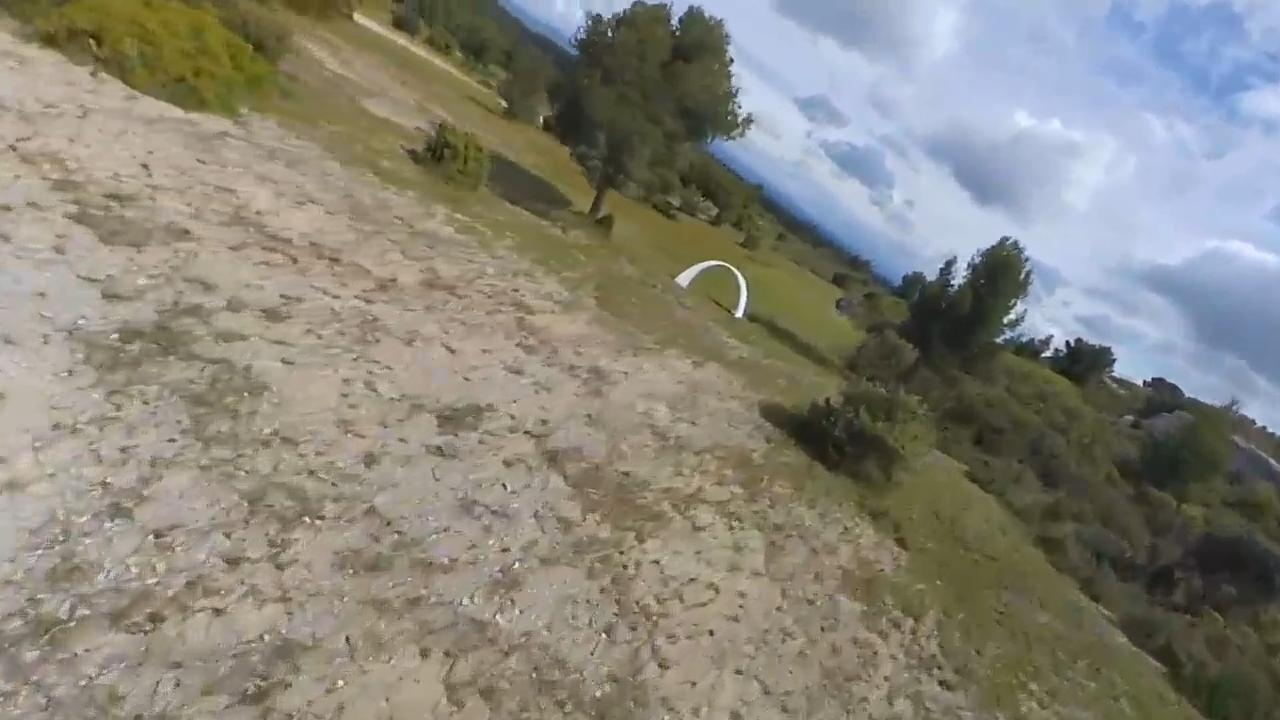gate: (672, 258, 748, 323)
